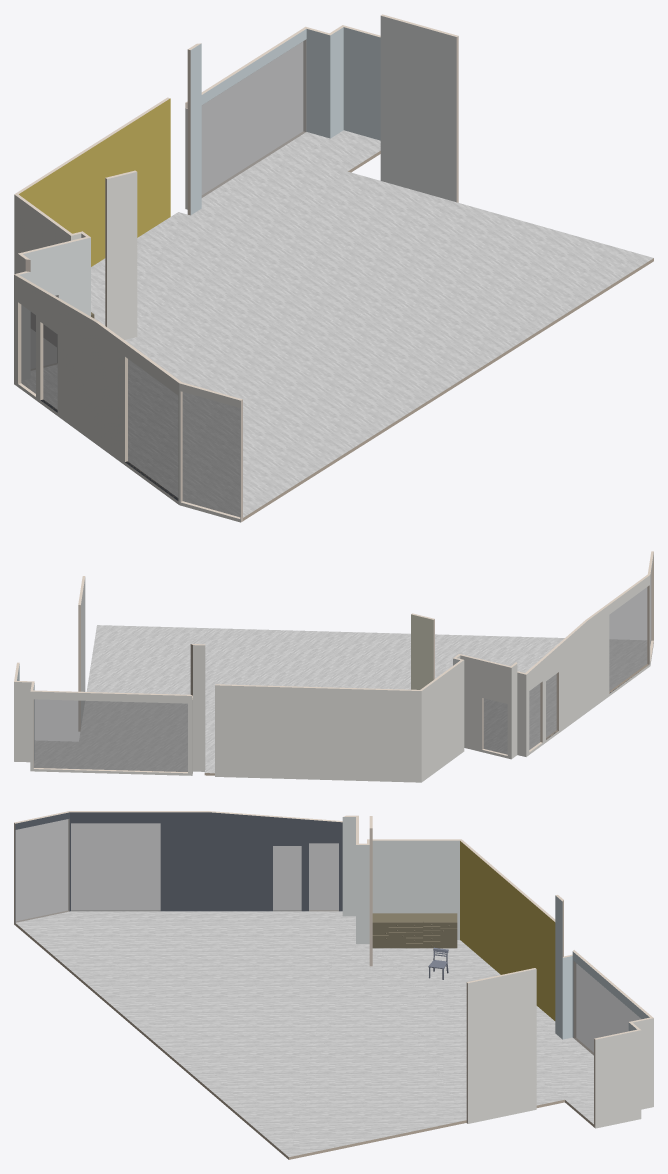
3 views of the same model, one above another, from view 1: azimuth 30°, elevation 25°; view 2: azimuth 150°, elevation 25°; view 3: azimuth 270°, elevation 25° (orthographic). The views are drawn at different scales.
Visible parts, largest first — view 1: floor_Other_0 (×2), door_5 (×2), wall_15, wall_0 (×2), door_4 (×2), wall_1, door_3 (×2), wall_14, wall_5, wall_3, wall_6, door_1 (×2) (+7 smaller); view 2: floor_Other_0, door_5 (×2), wall_1 (×2), wall_0 (×3), door_3 (×2), wall_2, wall_3, wall_13, door_0 (×2), wall_9, wall_14, wall_7 (+5 smaller); view 3: floor_Other_0 (×2), door_3 (×2), wall_0 (×2), door_4 (×2), wall_15, wall_1, wall_2, door_5 (×2), wall_5, door_1 (×2), door_2 (×2), storage0 (+8 smaller).
Boxes of the visible parts, x1,y1,x2,y2 form: floor_Other_0 (×2): (21,130,653,520); door_5 (×2): (202,39,306,197); wall_15: (380,16,456,202); wall_0 (×2): (14,275,179,504); door_4 (×2): (183,392,239,516); wall_1: (19,98,170,266); door_3 (×2): (128,359,177,497); wall_14: (107,172,137,339); wall_5: (343,27,380,140); wall_3: (23,237,90,316); wall_6: (306,29,330,138); door_1 (×2): (21,305,35,393); floor_Other_0: (34,625,650,773); door_5 (×2): (34,699,187,771); wall_1 (×2): (215,684,421,782); wall_0 (×3): (525,574,650,756); door_3 (×2): (609,587,646,690); wall_2: (421,660,464,782); wall_3: (460,655,511,759); wall_13: (30,691,192,775); door_0 (×2): (484,698,507,754); wall_9: (193,645,205,771); wall_14: (411,614,433,689); wall_7: (14,682,31,762); floor_Other_0 (×2): (15,911,593,1159); door_3 (×2): (71,823,160,910); wall_0 (×2): (69,811,342,911); door_4 (×2): (16,819,69,922); wall_15: (468,969,536,1123); wall_1: (460,841,555,1020); wall_2: (372,840,459,939); door_5 (×2): (574,961,640,1054); wall_5: (595,1030,641,1128); door_1 (×2): (309,843,338,910); door_2 (×2): (273,846,301,910); storage0: (372,913,457,948).
Bounding box in the file's own units: 19.49 × 5.18 × 21.34.
Materials: 14 (2 with a texture image).
